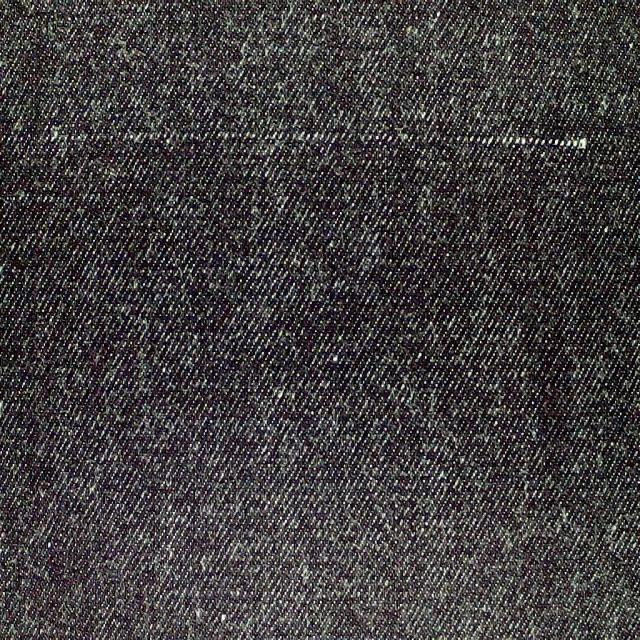Line: (48, 128, 592, 149)
